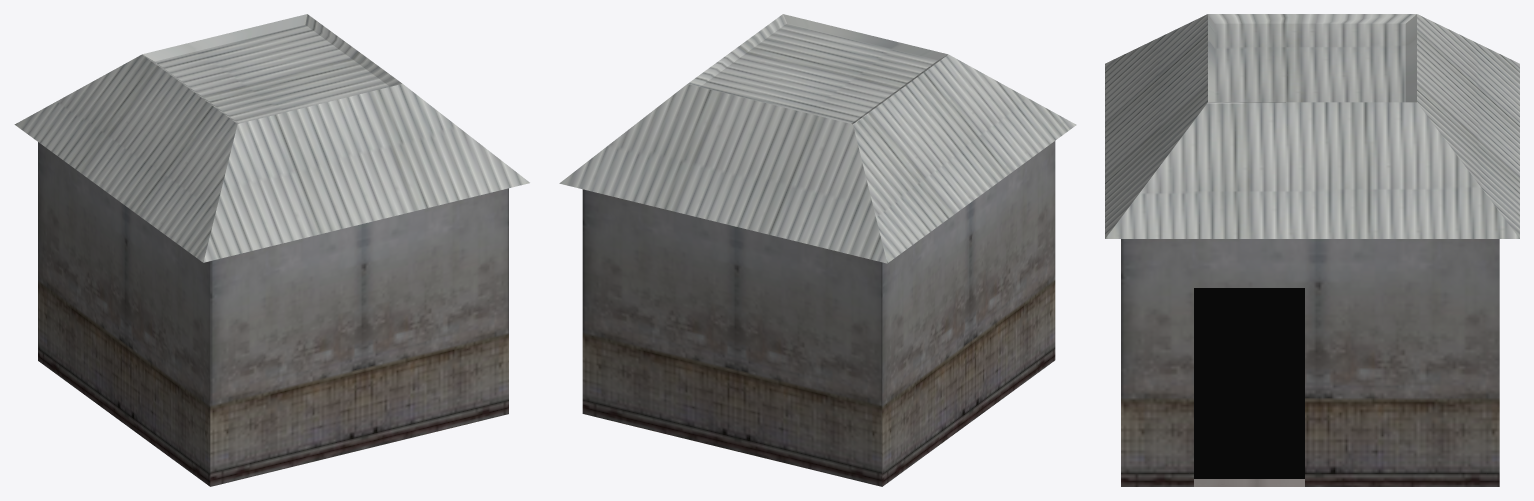
File: KIOSKE.fbx
3 renders of one model, left to right at view 1: azimuth 30°, elevation 25°; view 2: azimuth 150°, elevation 25°; view 3: azimuth 270°, elevation 25°, orthographic. The views are drawn at different scales.
Visible parts, largest first — view 1: Cube; view 2: Cube; view 3: Cube.
Part boxes in pixels (box(x1,y1,x2,y2)): Cube: box(14, 14, 529, 486); Cube: box(559, 14, 1076, 486); Cube: box(1105, 14, 1519, 486).
Size of the model in its own units: 563 by 523 by 563.
